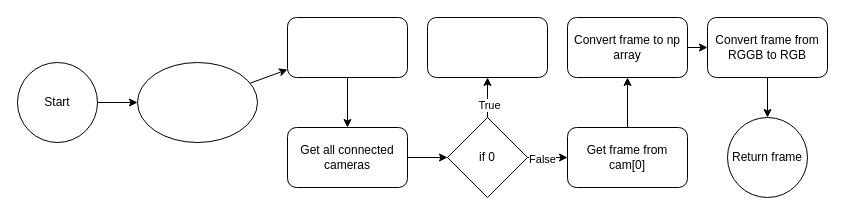
The diagram is 845 pixels wide and 215 high, and some of its shapes have lost their labels. The centre of each missing label's shape, as x and y in pixels:
exit: the point at 487,47
import vmbpy (Vimba SDK): the point at 197,102
Initialize VmbSystem: the point at 347,47
